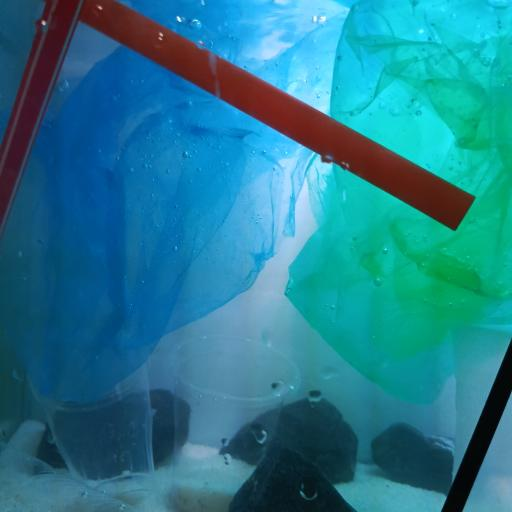plastic_bag: (2, 2, 340, 399), (284, 0, 512, 409)
plastic_cup: (166, 332, 301, 512), (25, 364, 160, 502), (449, 317, 512, 512)
plastic_straw: (77, 0, 476, 233), (0, 0, 82, 240), (441, 336, 512, 512)
